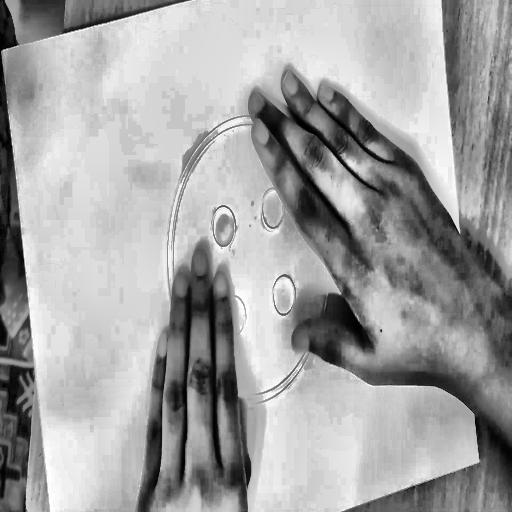bottom_right: (474, 451, 485, 469)
button: (146, 82, 361, 443)
top_left: (0, 48, 4, 56)
